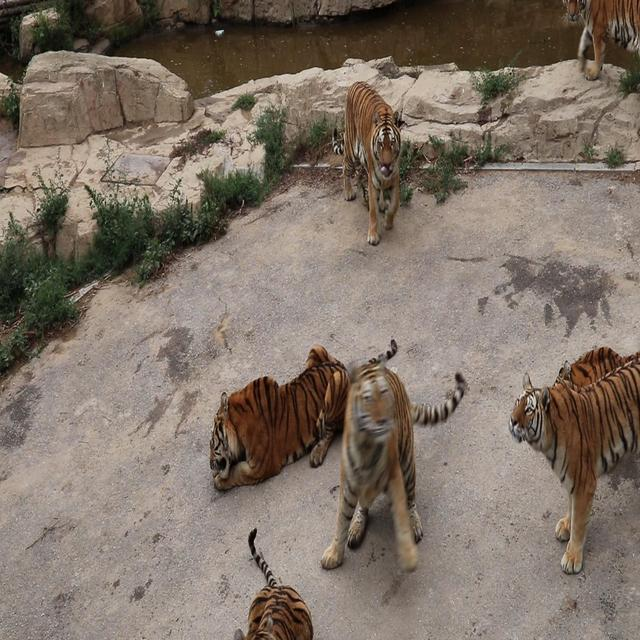tiger: (319, 338, 467, 576), (508, 344, 639, 575), (208, 343, 350, 492), (336, 79, 405, 245), (231, 526, 314, 639), (560, 0, 639, 81)
